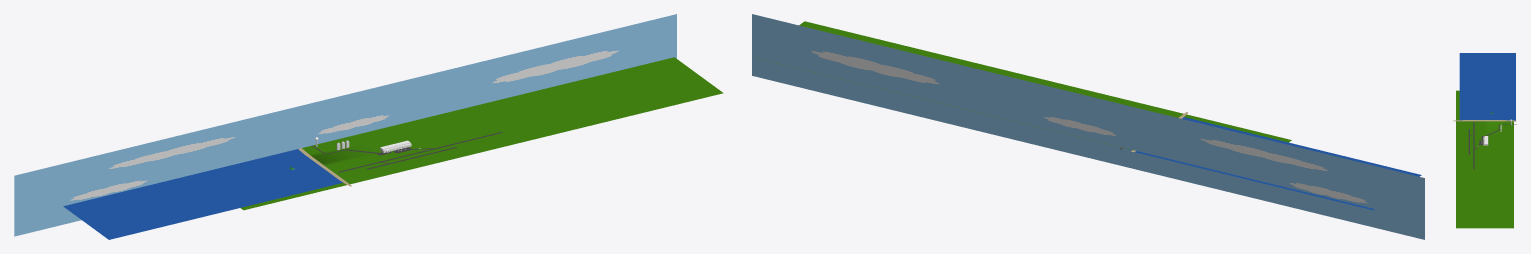
Rendered from enviroment.obj.
3 renders of one model, left to right at view 1: azimuth 30°, elevation 25°; view 2: azimuth 150°, elevation 25°; view 3: azimuth 270°, elevation 25°, orthographic. The views are drawn at different scales.
Parts seen in each view (by area): view 1: skybox, mark, havet; view 2: skybox, mark, havet; view 3: mark, havet, strand, banamain, duddlanda, Plane02.
Part boxes in pixels (bbox=[...]): skybox: bbox=[14, 14, 676, 236]; mark: bbox=[240, 57, 723, 210]; havet: bbox=[63, 149, 342, 239]; skybox: bbox=[752, 14, 1424, 239]; mark: bbox=[755, 21, 1291, 150]; havet: bbox=[1135, 117, 1421, 210]; mark: bbox=[1456, 90, 1513, 228]; havet: bbox=[1459, 53, 1515, 120]; strand: bbox=[1453, 120, 1516, 121]; banamain: bbox=[1473, 122, 1474, 169]; duddlanda: bbox=[1483, 136, 1488, 145]; Plane02: bbox=[1468, 129, 1469, 154].
Size of the model in its own units: 47166 by 4142 by 6693.
